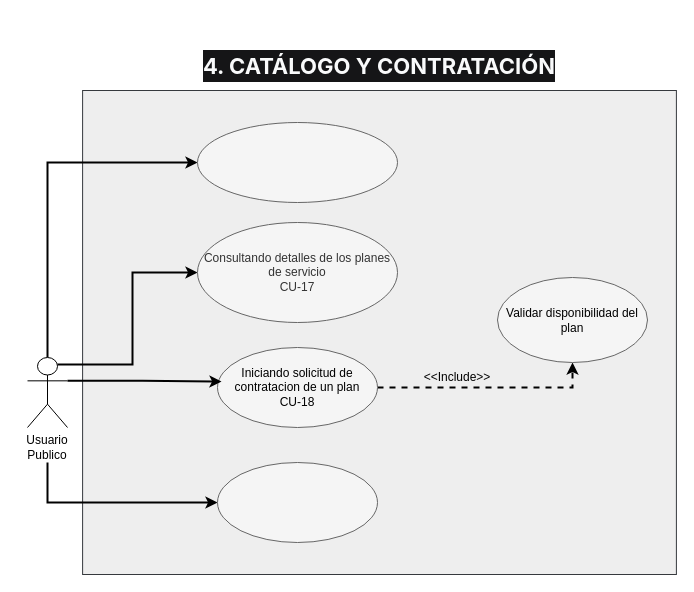
This 694x592 diagram has some shape labels left out. The centre of each missing label's shape, as x and y in pixels:
Consultando ofertas y servicios corporativos CU-19: the point at 297,502
Filtrando catálogo de planes por segmento CU-15: the point at 297,162
